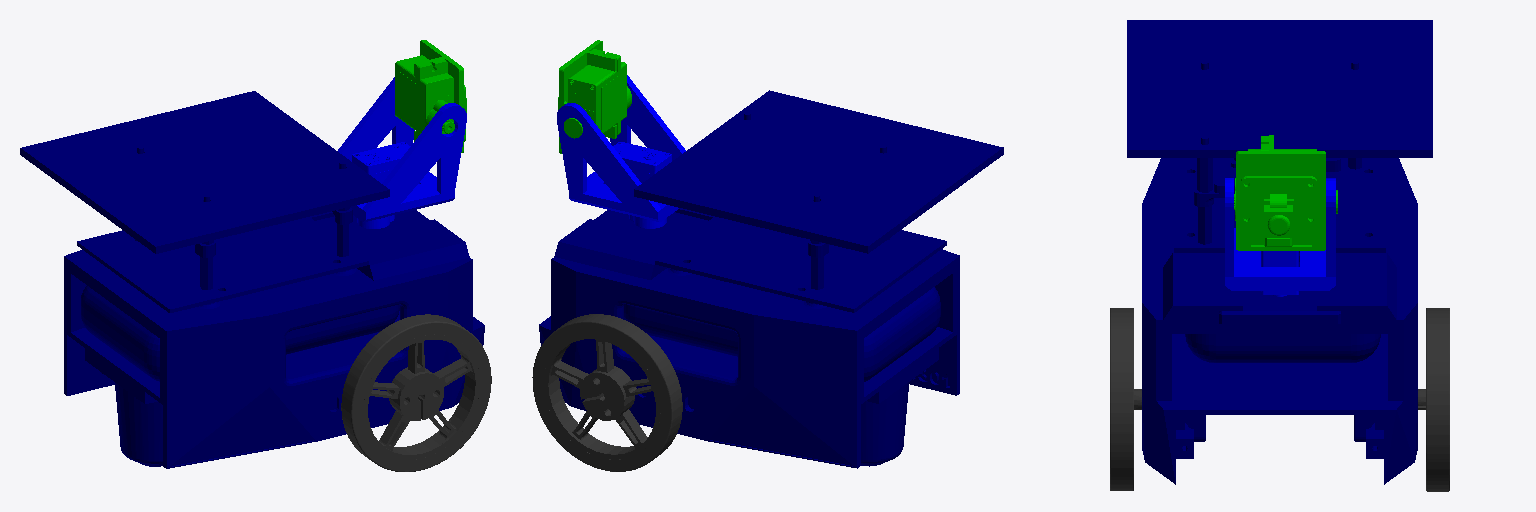
The robot description file, URDF, robot "Rasbot__3_description":
<?xml version="1.0" encoding="utf-8"?>
<!-- This URDF was automatically created by SolidWorks to URDF Exporter! Originally created by [author] ([email redacted]) 
     Commit Version: 1.6.0-1-g15f4949  Build Version: 1.6.7594.29634
     For more information, please see http://wiki.ros.org/sw_urdf_exporter -->
<robot
  name="Rasbot__3_description">
  <link
    name="base_link">
    <inertial>
      <origin
        xyz="-0.008709 0.00031983 0.011279"
        rpy="0 0 0" />
      <mass
        value="0.42178" />
      <inertia
        ixx="0.00028719"
        ixy="1.1163E-07"
        ixz="-4.1813E-06"
        iyy="0.00048601"
        iyz="9.9782E-08"
        izz="0.00065396" />
    </inertial>
    <visual>
      <origin
        xyz="0 0 0"
        rpy="0 0 0" />
      <geometry>
        <mesh
          filename="package://Rasbot__3_description/meshes/base_link.STL" />
      </geometry>
      <material
        name="azul">
        <color
          rgba="0 0 0.5 1" />
      </material>
    </visual>
    <collision>
      <origin
        xyz="0 0 0"
        rpy="0 0 0" />
      <geometry>
        <mesh
          filename="package://Rasbot__3_description/meshes/base_link.STL" />
      </geometry>
    </collision>
  </link>
  <link
    name="right_wheel">
    <inertial>
      <origin
        xyz="-2.9217E-05 -1.2071E-05 -3.972E-05"
        rpy="0 0 0" />
      <mass
        value="0.012327" />
      <inertia
        ixx="3.5535E-06"
        ixy="-7.5352E-10"
        ixz="-6.7566E-11"
        iyy="3.555E-06"
        iyz="-2.7915E-11"
        izz="6.9784E-06" />
    </inertial>
    <visual>
      <origin
        xyz="0 0 0"
        rpy="0 0 0" />
      <geometry>
        <mesh
          filename="package://Rasbot__3_description/meshes/right_wheel.STL" />
      </geometry>
      <material
        name="gris">
        <color
          rgba="0.25098 0.25098 0.25098 1" />
      </material>
    </visual>
    <collision>
      <origin
        xyz="0 0 0"
        rpy="0 0 0" />
      <geometry>
        <mesh
          filename="package://Rasbot__3_description/meshes/right_wheel.STL" />
      </geometry>
    </collision>
  </link>
  <joint
    name="base_right_wheel_joint"
    type="continuous">
    <origin
      xyz="0.03084 0.051547 -0.0148"
      rpy="-1.5708 0 0" />
    <parent
      link="base_link" />
    <child
      link="right_wheel" />
    <axis
      xyz="0 0 -1" />
    <limit
      effort="0.4"
      velocity="2" />
  </joint>
  <link
    name="left_wheel">
    <inertial>
      <origin
        xyz="-8.8818E-15 3.1613E-05 -3.972E-05"
        rpy="0 0 0" />
      <mass
        value="0.012327" />
      <inertia
        ixx="3.5553E-06"
        ixy="1.4381E-19"
        ixz="-9.462E-19"
        iyy="3.5532E-06"
        iyz="7.3105E-11"
        izz="6.9784E-06" />
    </inertial>
    <visual>
      <origin
        xyz="0 0 0"
        rpy="0 0 0" />
      <geometry>
        <mesh
          filename="package://Rasbot__3_description/meshes/left_wheel.STL" />
      </geometry>
      <material
        name="gris">
        <color
          rgba="0.25098 0.25098 0.25098 1" />
      </material>
    </visual>
    <collision>
      <origin
        xyz="0 0 0"
        rpy="0 0 0" />
      <geometry>
        <mesh
          filename="package://Rasbot__3_description/meshes/left_wheel.STL" />
      </geometry>
    </collision>
  </link>
  <joint
    name="base_left_wheel_joint"
    type="continuous">
    <origin
      xyz="0.03084 -0.051547 -0.0148"
      rpy="1.5708 0 0" />
    <parent
      link="base_link" />
    <child
      link="left_wheel" />
    <axis
      xyz="0 0 -1" />
    <limit
      effort="0.4"
      velocity="2" />
  </joint>
  <link
    name="base_cam_link">
    <inertial>
      <origin
        xyz="0.0079827 5.4286E-05 0.014985"
        rpy="0 0 0" />
      <mass
        value="0.015993" />
      <inertia
        ixx="1.8893E-06"
        ixy="-1.7136E-07"
        ixz="-3.8471E-07"
        iyy="2.2804E-06"
        iyz="-3.8442E-07"
        izz="2.667E-06" />
    </inertial>
    <visual>
      <origin
        xyz="0 0 0"
        rpy="0 0 0" />
      <geometry>
        <mesh
          filename="package://Rasbot__3_description/meshes/base_cam_link.STL" />
      </geometry>
      <material
        name="azul_2">
        <color
          rgba="0 0 1 1" />
      </material>
    </visual>
    <collision>
      <origin
        xyz="0 0 0"
        rpy="0 0 0" />
      <geometry>
        <mesh
          filename="package://Rasbot__3_description/meshes/base_cam_link.STL" />
      </geometry>
    </collision>
  </link>
  <joint
    name="base_base_cam_joint"
    type="revolute">
    <origin
      xyz="0.041348 0 0.033526"
      rpy="0 0 0" />
    <parent
      link="base_link" />
    <child
      link="base_cam_link" />
    <axis
      xyz="0 0 -1" />
    <limit
      lower="-1.5708"
      upper="1.5708"
      effort="0.1"
      velocity="1" />
  </joint>
  <link
    name="camera_link">
    <inertial>
      <origin
        xyz="0.0031771 -0.00025892 0.0033658"
        rpy="0 0 0" />
      <mass
        value="0.011488" />
      <inertia
        ixx="9.9215E-07"
        ixy="2.2492E-08"
        ixz="-7.2374E-09"
        iyy="7.6855E-07"
        iyz="1.3763E-08"
        izz="4.5939E-07" />
    </inertial>
    <visual>
      <origin
        xyz="0 0 0"
        rpy="0 0 0" />
      <geometry>
        <mesh
          filename="package://Rasbot__3_description/meshes/camera_link.STL" />
      </geometry>
      <material
        name="verde">
        <color
          rgba="0 0.75294 0 1" />
      </material>
    </visual>
    <collision>
      <origin
        xyz="0 0 0"
        rpy="0 0 0" />
      <geometry>
        <mesh
          filename="package://Rasbot__3_description/meshes/camera_link.STL" />
      </geometry>
    </collision>
  </link>
  <joint
    name="base_cam_camera_joint"
    type="revolute">
    <origin
      xyz="0.022875 0.0004 0.038592"
      rpy="0 0 0" />
    <parent
      link="base_cam_link" />
    <child
      link="camera_link" />
    <axis
      xyz="0 -1 0" />
    <limit
      lower="-1.5708"
      upper="1.5708"
      effort="0.1"
      velocity="1" />
  </joint>
</robot>

--- Render facts (derived) ---
The picture shows the robot from 3 angles, left to right: view 1: azimuth 30°, elevation 25°; view 2: azimuth 150°, elevation 25°; view 3: azimuth 270°, elevation 25°; orthographic projection.
Robot: Rasbot__3_description — 5 links, 4 joints (2 revolute, 2 continuous); root link base_link; default pose: every joint at zero.
Links seen in each view (by area): view 1: base_link, left_wheel, base_cam_link, camera_link; view 2: base_link, right_wheel, base_cam_link, camera_link; view 3: base_link, camera_link, base_cam_link, right_wheel, left_wheel.
Boxes of the visible links, x1,y1,x2,y2 form: base_link: (20,91,484,468); left_wheel: (341,314,491,471); base_cam_link: (338,77,466,228); camera_link: (395,40,466,152); base_link: (539,90,1003,468); right_wheel: (532,314,682,471); base_cam_link: (557,75,685,228); camera_link: (558,40,631,153); base_link: (1127,20,1432,484); camera_link: (1234,135,1337,250); base_cam_link: (1225,178,1335,296); right_wheel: (1418,308,1449,491); left_wheel: (1110,308,1141,490).
Bounding box of the posed robot: 0.1599 × 0.1111 × 0.1384 m (x, y, z).
Meshes: 5 distinct files referenced, 5 mesh visuals loaded (5 binary STL).